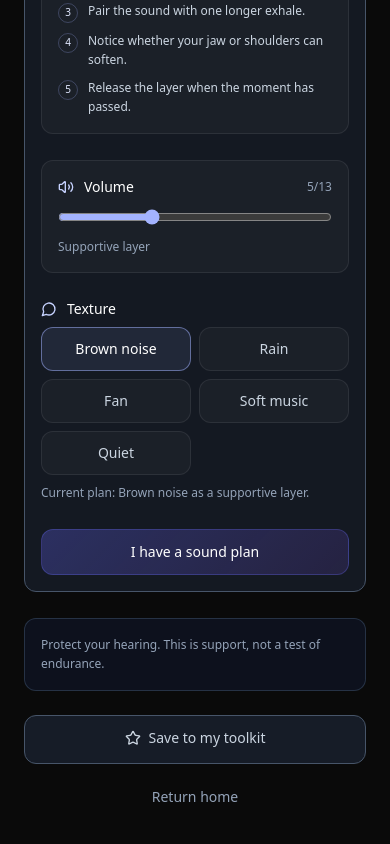
Scenario: RegulationPracticeClient › keeps panel-led practices on their custom completion flow
The width and height of the screenshot is (390, 844).
(page scrolled)
Step 1. Click the button "I have a sound plan" → click(195, 552), box [41,528,349,574]
(page scrolled)
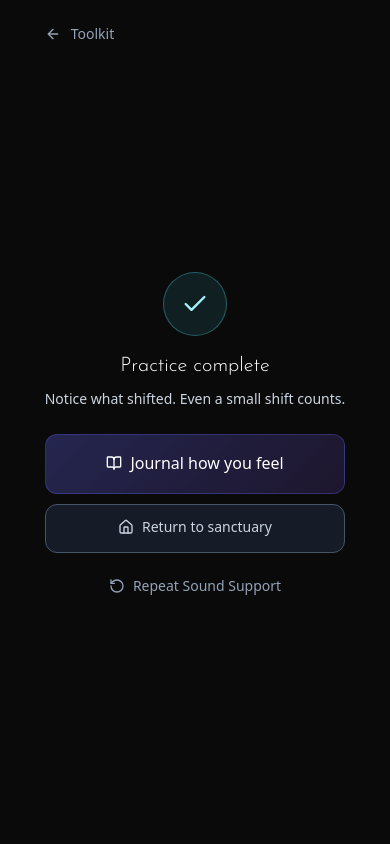
Result: the heading "Practice complete" is shown at [120,356,270,376]
